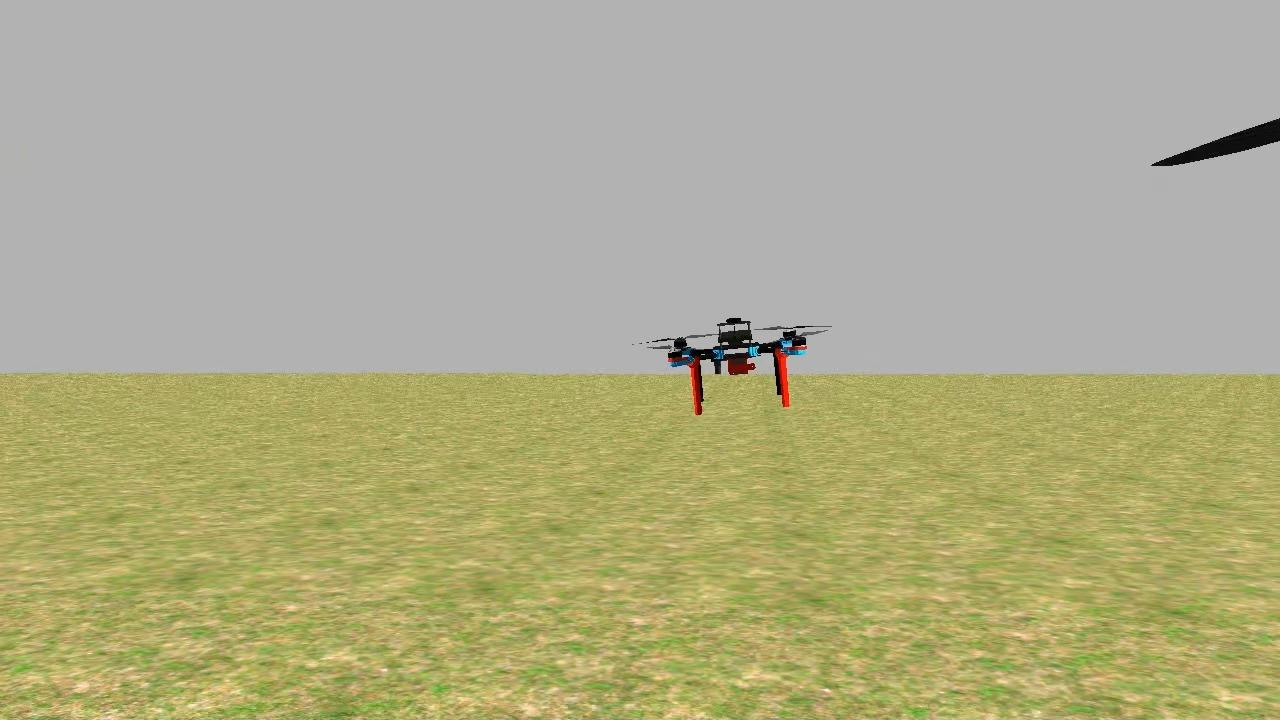UAV: (654, 300, 823, 429)
